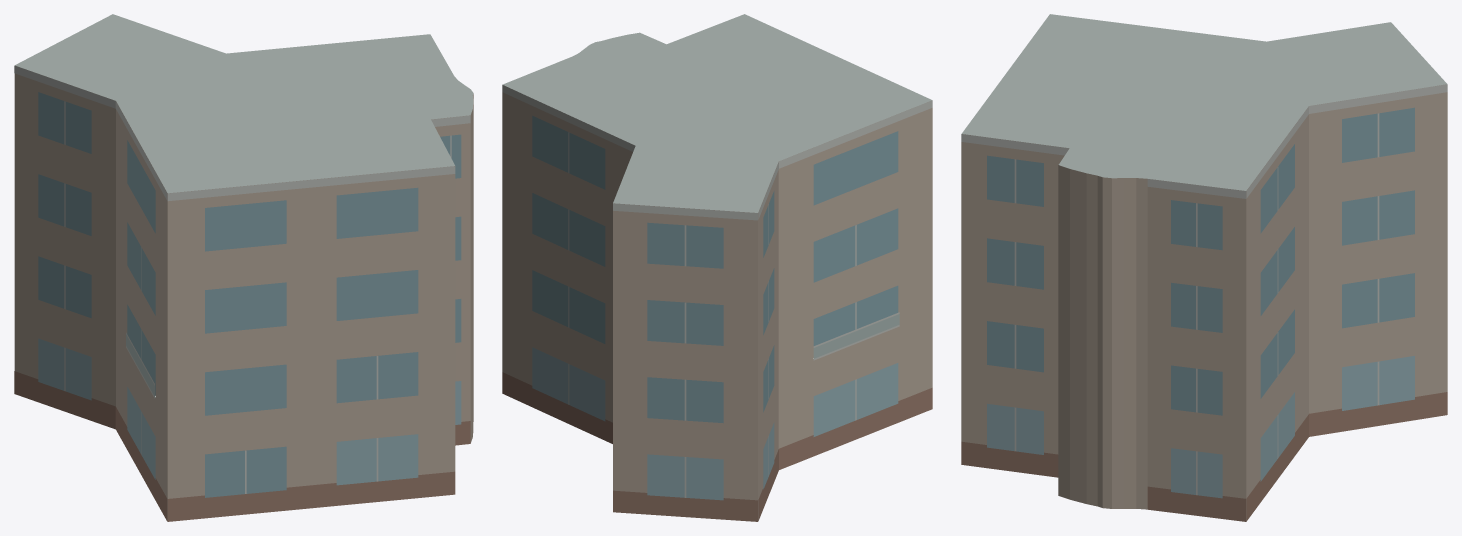
The model's file is survey-upis-32501439.glb.
The picture shows the model from 3 angles, left to right: view 1: azimuth 30°, elevation 25°; view 2: azimuth 150°, elevation 25°; view 3: azimuth 270°, elevation 25°; orthographic projection. The views are drawn at different scales.
Visible parts, largest first — view 1: survey-upis-32501439.tmp; view 2: survey-upis-32501439.tmp; view 3: survey-upis-32501439.tmp.
Part boxes in pixels (x1,y1,x2,y2): survey-upis-32501439.tmp: [14, 14, 473, 521]; survey-upis-32501439.tmp: [502, 14, 932, 521]; survey-upis-32501439.tmp: [961, 14, 1447, 521].
Bounding box in the file's own units: 11.6 × 10.1 × 13.46.
